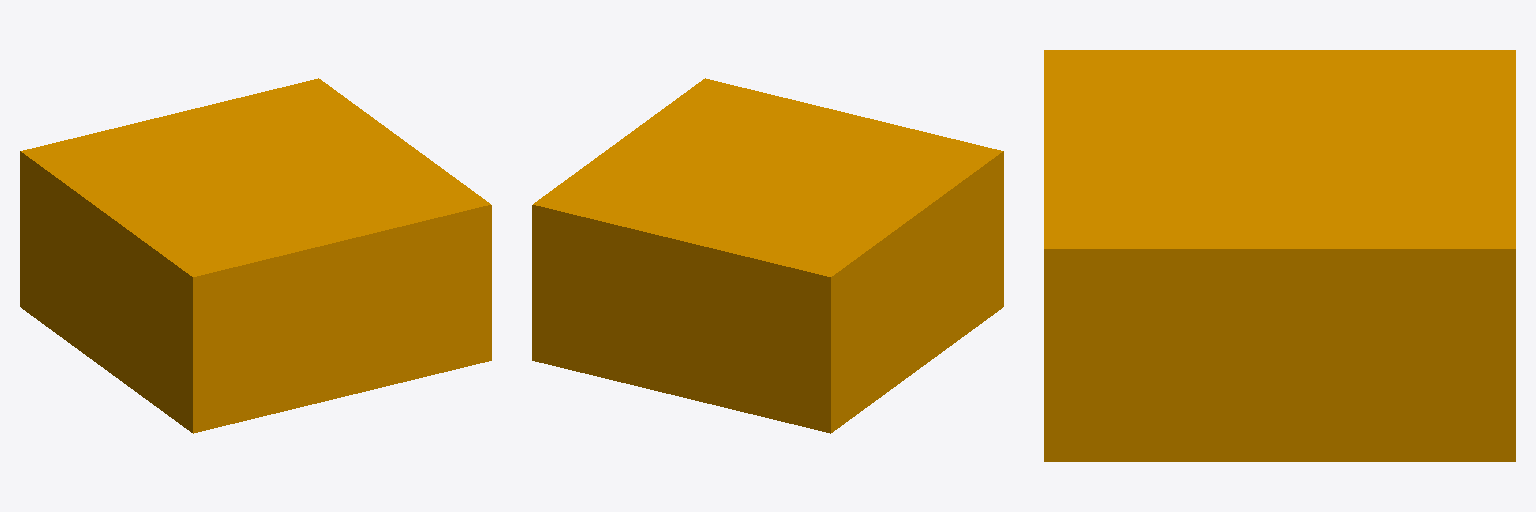
URDF robot description (cube.urdf):
<?xml version="1.0" ?>
<robot name="cube.urdf">
  <link name="baseLink">
    <contact>
    	<friction_anchor/>
    	   <lateral_friction value="1.0"/>
    </contact>
    <inertial>
      <origin rpy="0 0 0" xyz="0 0 0"/>
       <mass value=".1"/>
       <inertia ixx="1" ixy="0" ixz="0" iyy="1" iyz="0" izz="1"/>
    </inertial>
    <visual>
      <origin rpy="0 0 0" xyz="0 0 0"/>
      <geometry>
	<box size=".2 .2 .1"/>
      </geometry>
    </visual>
    <collision>
      <origin rpy="0 0 0" xyz="0 0 0"/>
      <geometry>
	<box size=".2 .2 .1"/>
      </geometry>
    </collision>
  </link>
</robot>

--- Facts derived from the render (not from the file) ---
The picture shows the robot from 3 angles, left to right: view 1: azimuth 30°, elevation 25°; view 2: azimuth 150°, elevation 25°; view 3: azimuth 270°, elevation 25°; orthographic projection.
Model cube.urdf with 1 links and 0 joints (none), rooted at baseLink, posed every joint at zero.
Visible links, largest first — view 1: baseLink; view 2: baseLink; view 3: baseLink.
Boxes of the visible links, x1,y1,x2,y2 form: baseLink: (20, 78, 491, 433); baseLink: (532, 78, 1003, 433); baseLink: (1044, 50, 1515, 461).
Bounding box of the posed robot: 0.2 × 0.2 × 0.1 m (x, y, z).
Geometry: primitives only (box / cylinder / sphere), no mesh files.